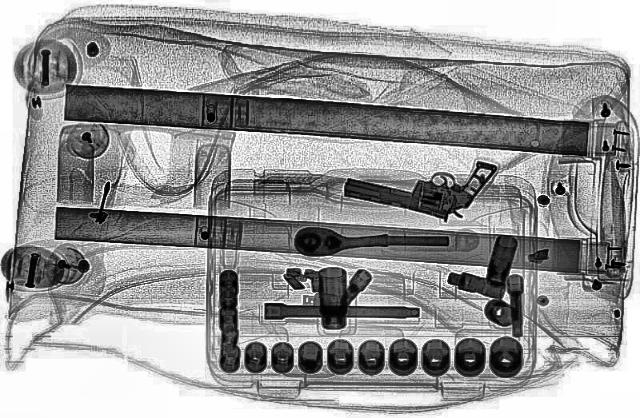Gun: (334, 137, 498, 225)
